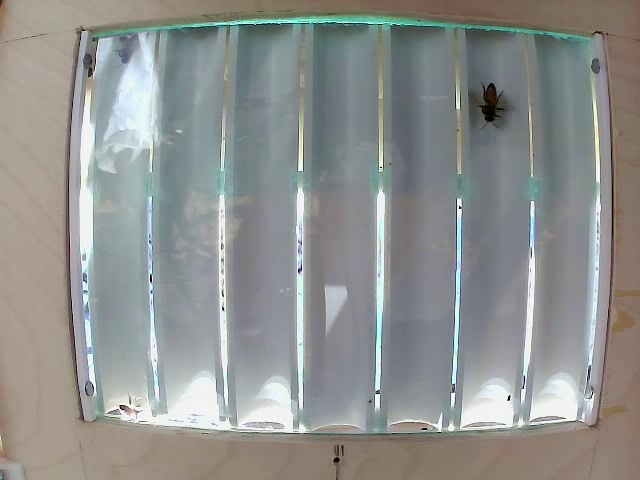bee: (472, 77, 501, 120)
